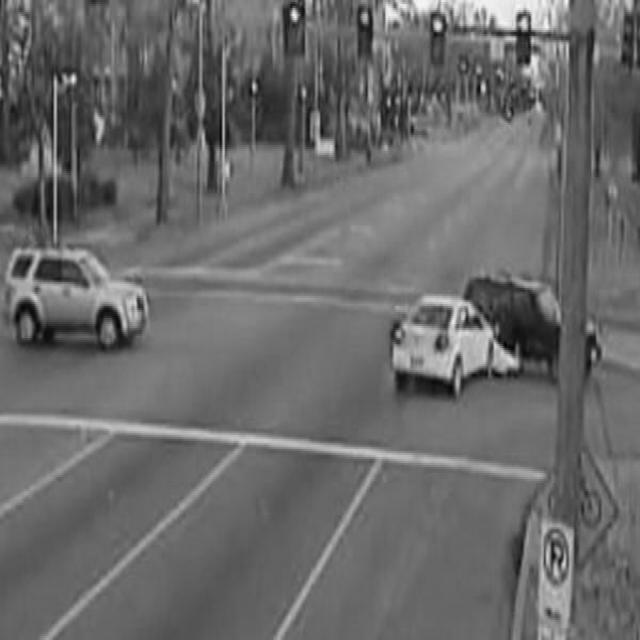accident: (385, 264, 607, 403)
vehicle: (8, 245, 154, 353)
